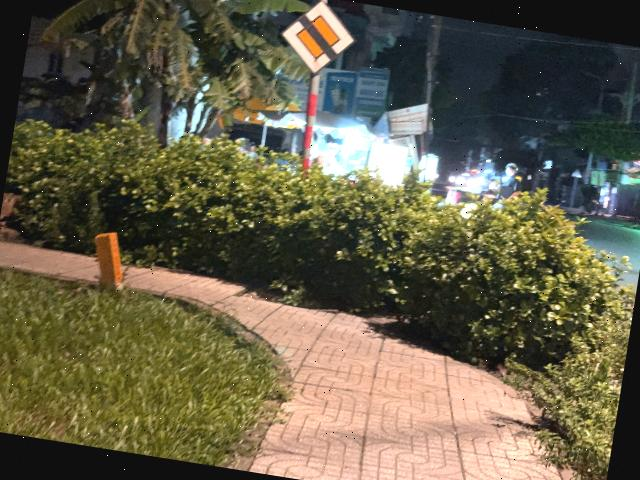het-duong-uu-tien: (272, 0, 360, 84)
